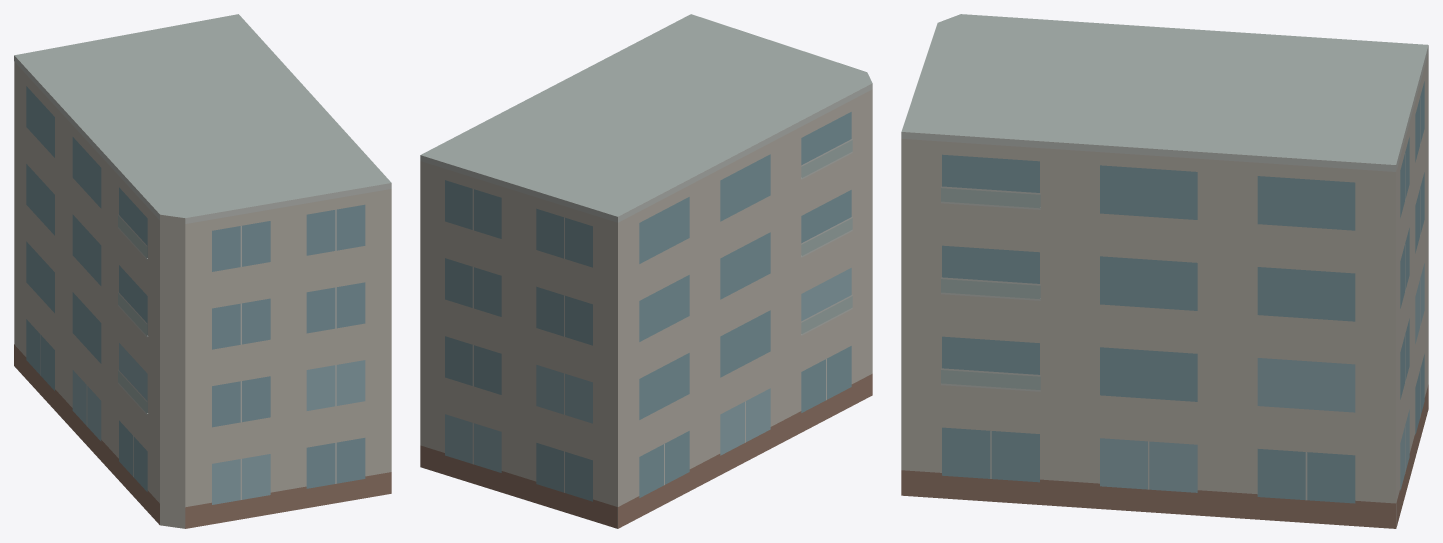
File: survey-upis-32667278.glb
The picture shows the model from 3 angles, left to right: view 1: azimuth 30°, elevation 25°; view 2: azimuth 150°, elevation 25°; view 3: azimuth 270°, elevation 25°; orthographic projection. The views are drawn at different scales.
Parts seen in each view (by area): view 1: survey-upis-32667278.tmp; view 2: survey-upis-32667278.tmp; view 3: survey-upis-32667278.tmp.
Boxes of the visible parts, <box> form: survey-upis-32667278.tmp: <box>14,14,391,528</box>; survey-upis-32667278.tmp: <box>420,14,872,528</box>; survey-upis-32667278.tmp: <box>901,14,1428,528</box>.
Bounding box in the file's own units: 11.42 × 12.8 × 16.83.
